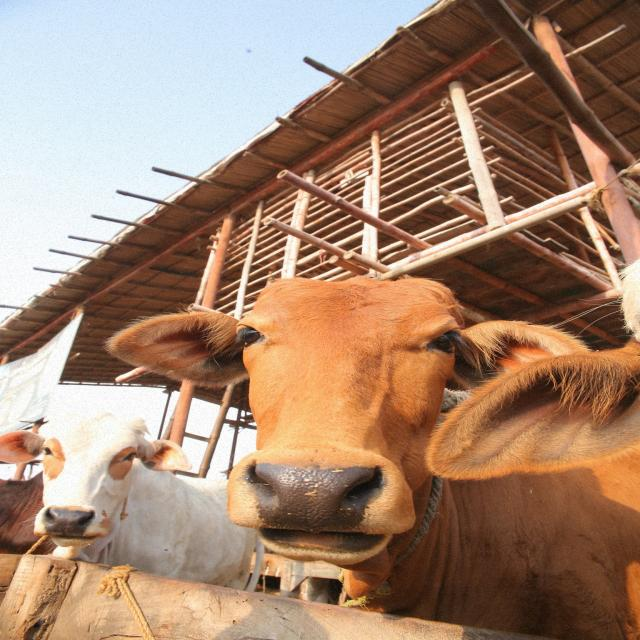muzzles: (216, 449, 394, 545)
